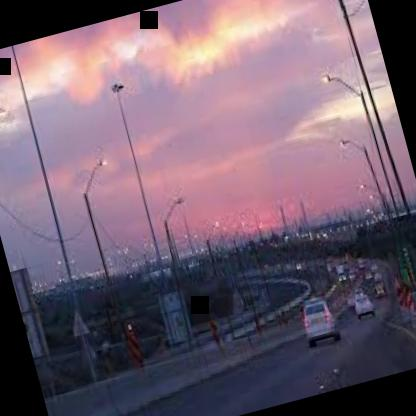car: (290, 296, 346, 366), (339, 284, 390, 338)
